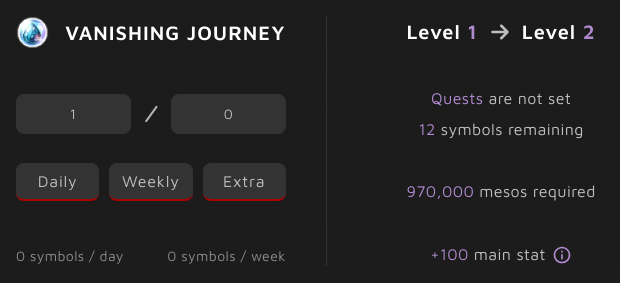
Test: Calculator — level and experience inputs › caps experience at the next-level requirement while locked and reports readiness
The image size is (620, 283).
Replace the text in the 2nd number field with placeholder "Experience" with "50" at (228, 114), box [171, 94, 286, 134]
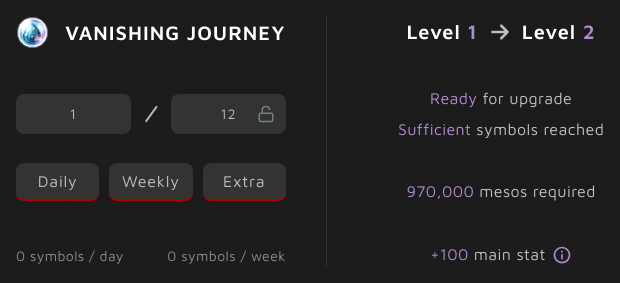
Check: the text "Ready" is shown, box [430, 89, 477, 107]
Check: the text "Sufficient" is shown, box [398, 120, 471, 138]
